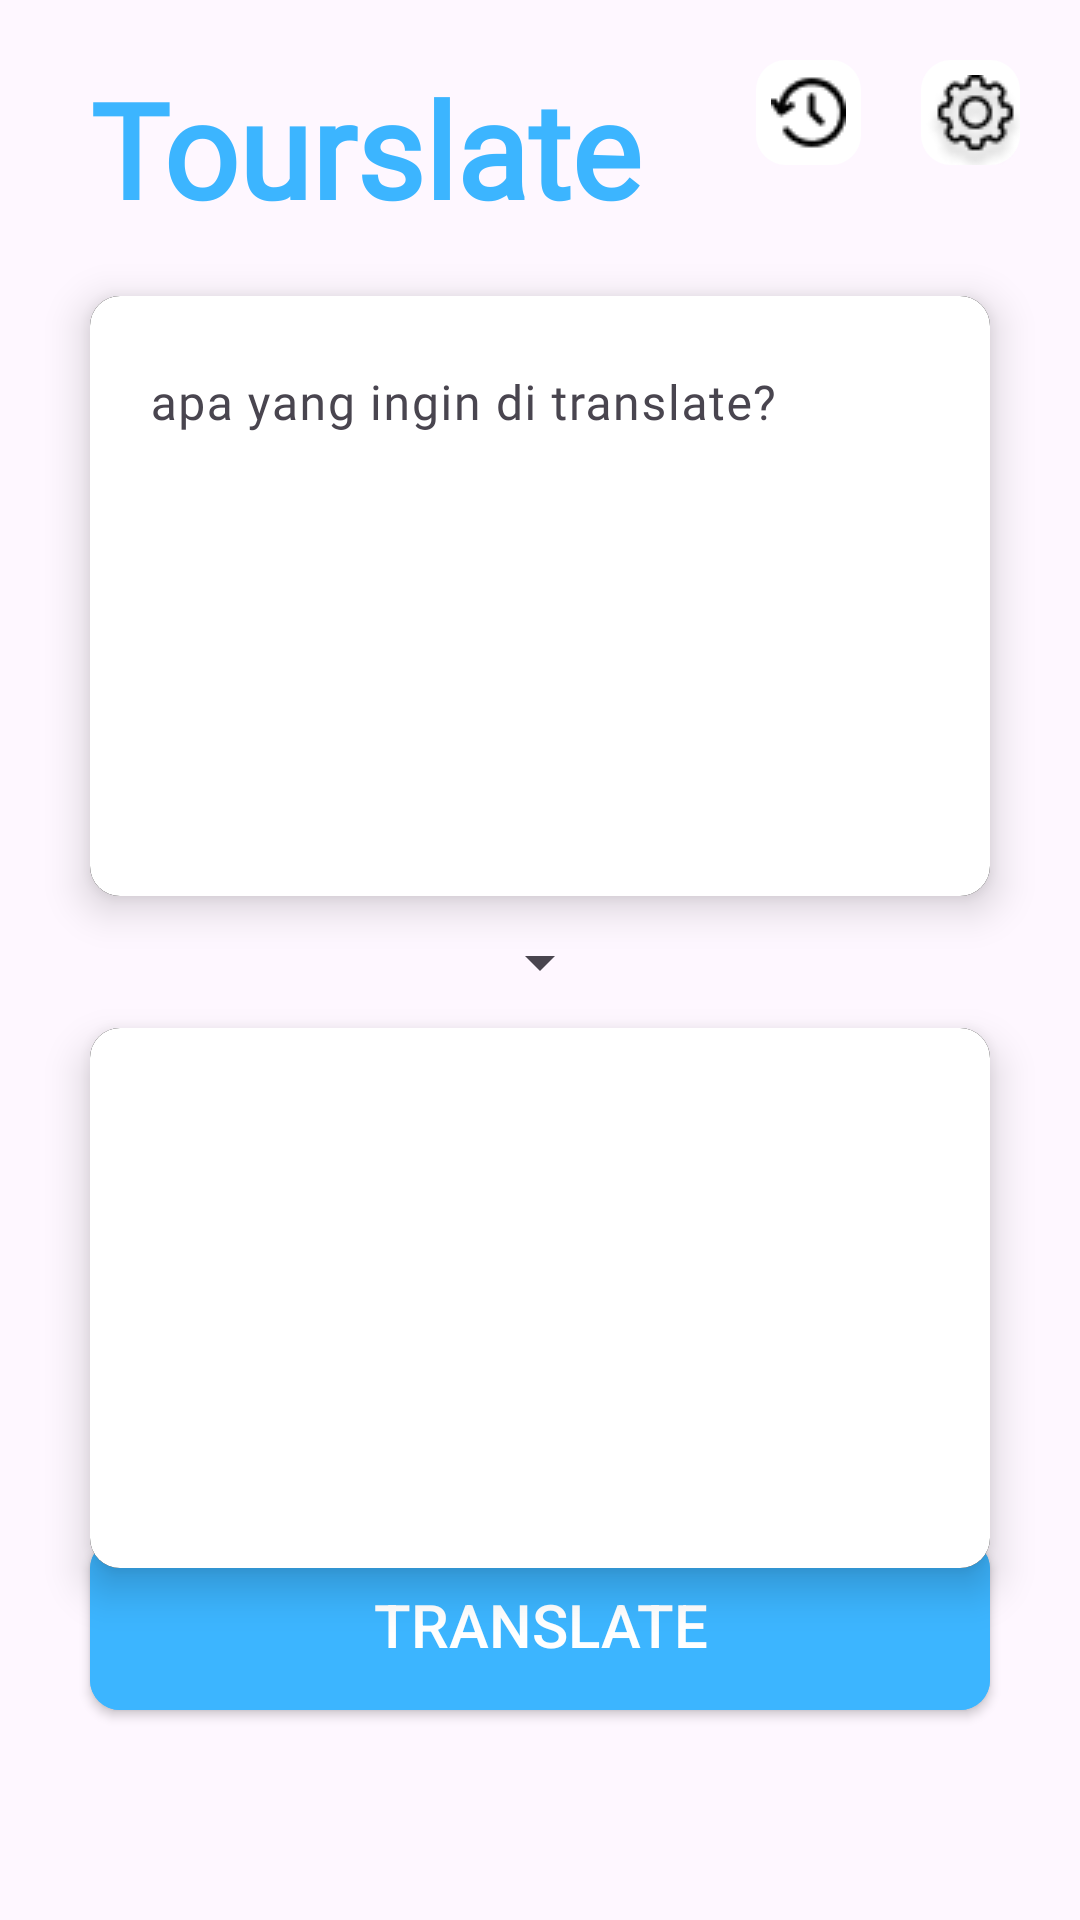

Icons on this 1080*1920 Android screen, each with its box as (x1, y1, x2, y2):
history: (771, 77, 846, 148)
setting: (937, 75, 1014, 159)
